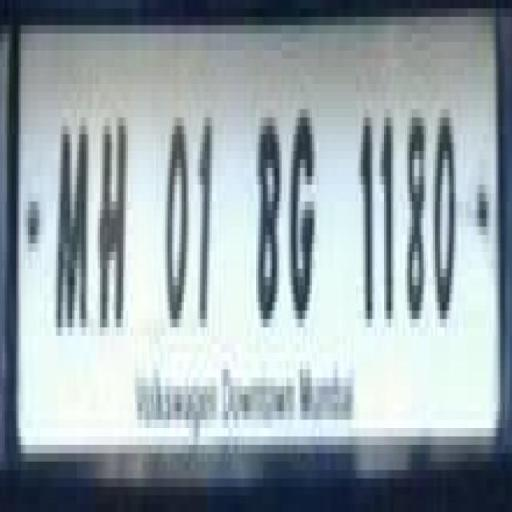number plate: (16, 0, 512, 445)
